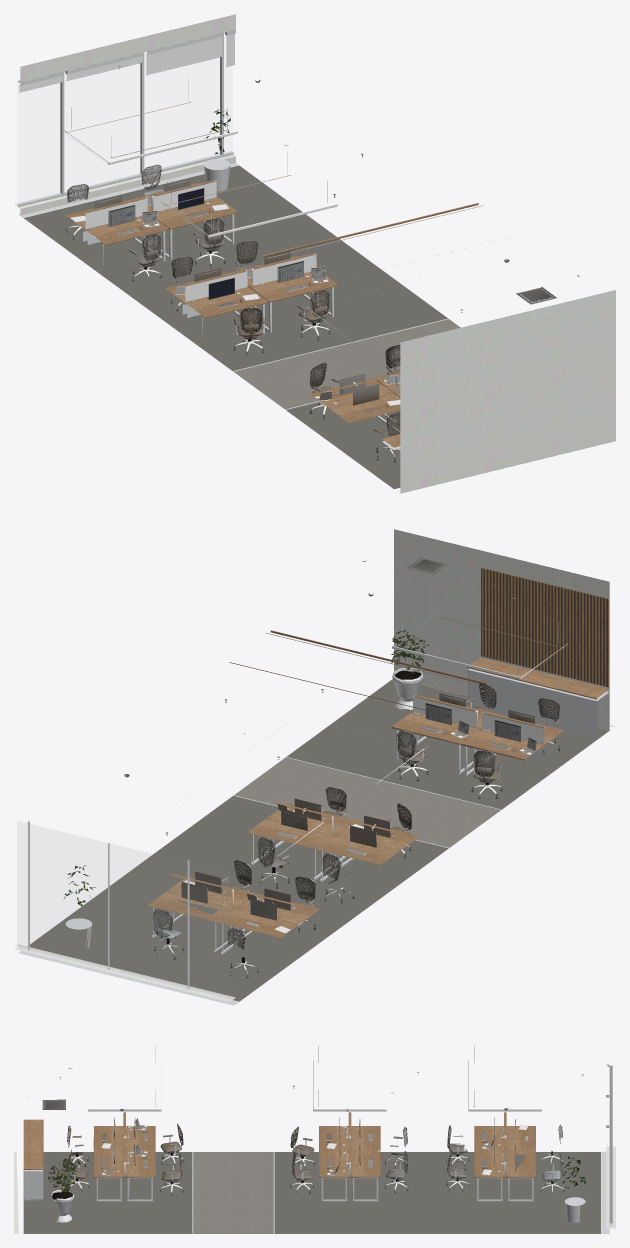
The model's file is z-open_c-lite.light.91a2441c.glb.
3 views of the same model, one above another, from view 1: azimuth 30°, elevation 25°; view 2: azimuth 150°, elevation 25°; view 3: azimuth 270°, elevation 25° (orthographic). The views are drawn at different scales.
Visible parts, largest first — view 1: open_c_carpet, open_c_plaster, open_c_satin, open_c_fx, open_c_oak, open_c_emit, open_c_metal_lit; view 2: open_c_carpet, open_c_plaster, open_c_oak, open_c_satin, open_c_fx, open_c_proxy_slat, open_c_emit, open_c_veg_atlas, open_c_metal_lit; view 3: open_c_carpet, open_c_oak, open_c_satin, open_c_fx, open_c_metal_lit, open_c_plaster, open_c_veg_atlas.
Boxes of the visible parts, bbox=[...] form: open_c_carpet: bbox=[24, 165, 460, 488]; open_c_plaster: bbox=[14, 14, 615, 493]; open_c_satin: bbox=[16, 30, 579, 449]; open_c_fx: bbox=[66, 66, 556, 462]; open_c_oak: bbox=[65, 180, 478, 447]; open_c_emit: bbox=[65, 102, 483, 342]; open_c_metal_lit: bbox=[23, 145, 400, 456]; open_c_carpet: bbox=[27, 679, 609, 1002]; open_c_plaster: bbox=[14, 529, 615, 1001]; open_c_oak: bbox=[148, 630, 609, 937]; open_c_satin: bbox=[16, 560, 608, 1005]; open_c_fx: bbox=[124, 557, 560, 978]; open_c_proxy_slat: bbox=[481, 568, 608, 687]; open_c_emit: bbox=[266, 566, 607, 857]; open_c_veg_atlas: bbox=[63, 630, 429, 906]; open_c_metal_lit: bbox=[162, 696, 553, 1001]; open_c_carpet: bbox=[23, 1152, 600, 1233]; open_c_oak: bbox=[23, 1112, 535, 1177]; open_c_satin: bbox=[24, 1045, 612, 1233]; open_c_fx: bbox=[42, 1072, 583, 1195]; open_c_metal_lit: bbox=[67, 1092, 601, 1233]; open_c_plaster: bbox=[14, 1146, 615, 1233]; open_c_veg_atlas: bbox=[48, 1156, 586, 1199].
Size of the model in its own units: 5 by 3.35 by 15.5.
Materials: 10 (7 with a texture image).
